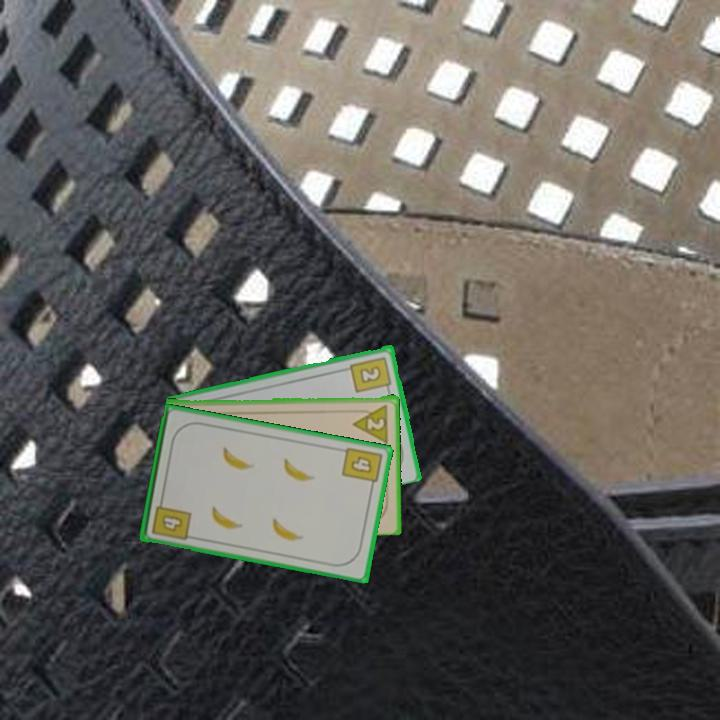2b: (347, 353, 394, 395)
2p: (350, 401, 391, 444)
4b: (338, 443, 385, 492), (148, 494, 194, 543)
